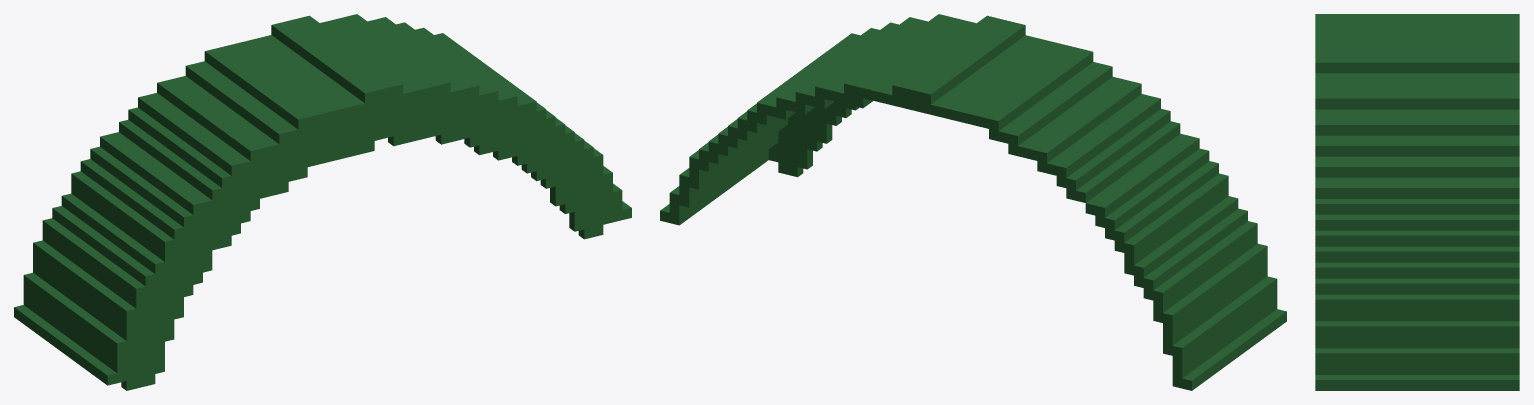
Rendered from tractor_fender.glb.
3 renders of one model, left to right at view 1: azimuth 30°, elevation 25°; view 2: azimuth 150°, elevation 25°; view 3: azimuth 270°, elevation 25°, orthographic. The views are drawn at different scales.
Visible parts, largest first — view 1: body:compound; view 2: body:compound; view 3: body:compound.
Part boxes in pixels (x1=…): body:compound: x1=14, y1=14, x2=631, y2=390; body:compound: x1=660, y1=14, x2=1286, y2=390; body:compound: x1=1315, y1=14, x2=1519, y2=390.
Size of the model in its own units: 1.72 by 0.75 by 0.5312.
